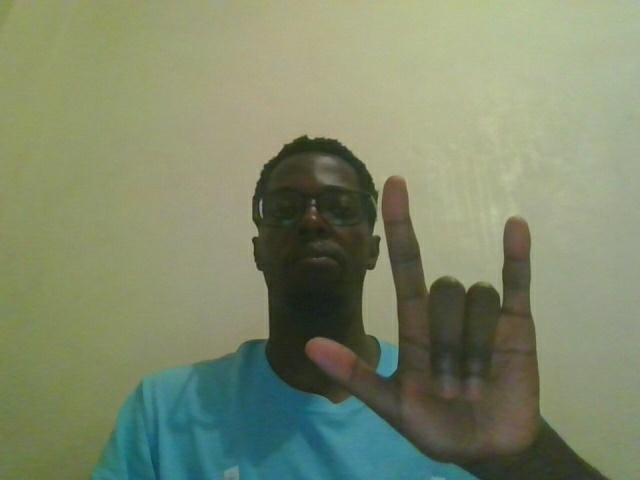I Love You: (304, 158, 608, 479)
